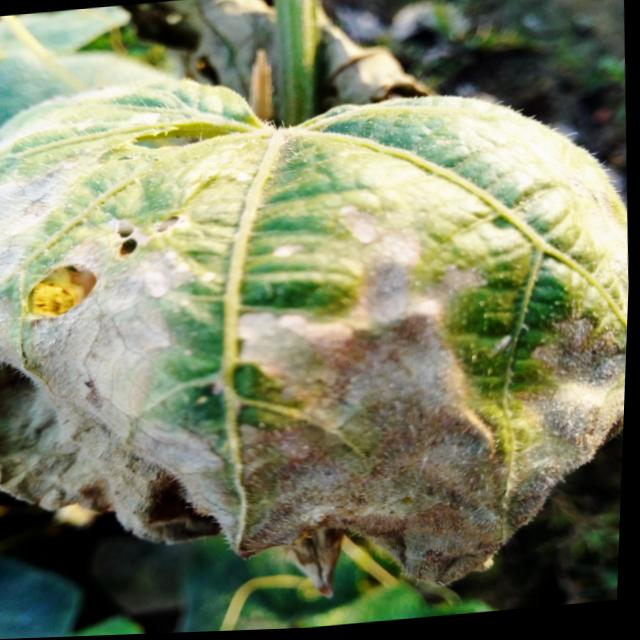Gummy-Stem-Blight: (0, 116, 635, 625)
